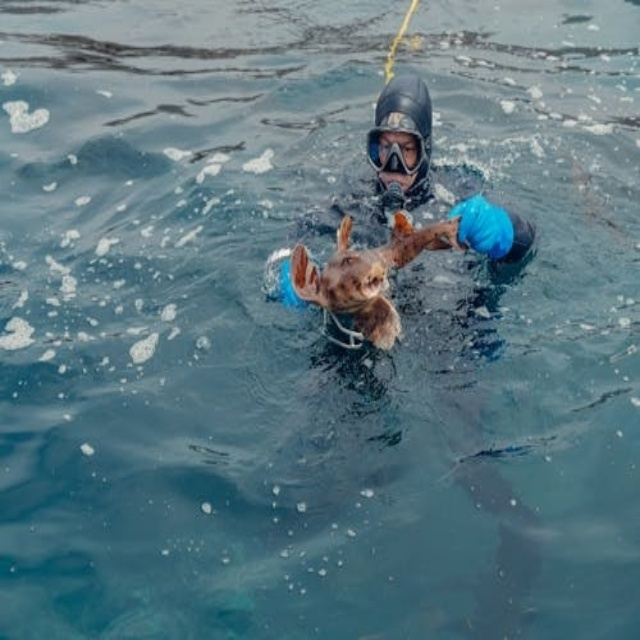Gafas: (368, 132, 428, 178)
Guantes: (444, 184, 515, 261)
